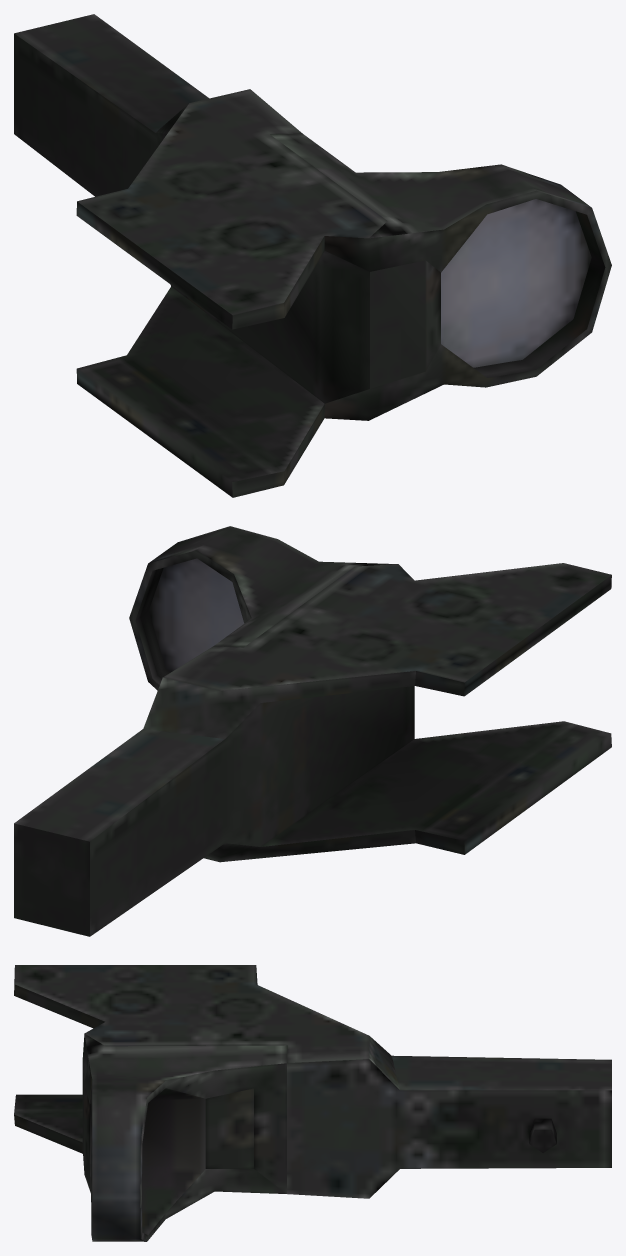
Rendered from Pickup_WeaponMzj02.glb.
3 renders of one model, top to bottom at view 1: azimuth 30°, elevation 25°; view 2: azimuth 150°, elevation 25°; view 3: azimuth 270°, elevation 25°, orthographic. The views are drawn at different scales.
Parts seen in each view (by area): view 1: pk_weapon_mzj02; view 2: pk_weapon_mzj02; view 3: pk_weapon_mzj02.
Boxes of the visible parts, x1,y1,x2,y2 form: pk_weapon_mzj02: [14, 14, 611, 497]; pk_weapon_mzj02: [14, 526, 611, 936]; pk_weapon_mzj02: [14, 965, 611, 1241].
Size of the model in its own units: 0.1691 by 0.0703 by 0.2632.
1 material, 1 textured.
